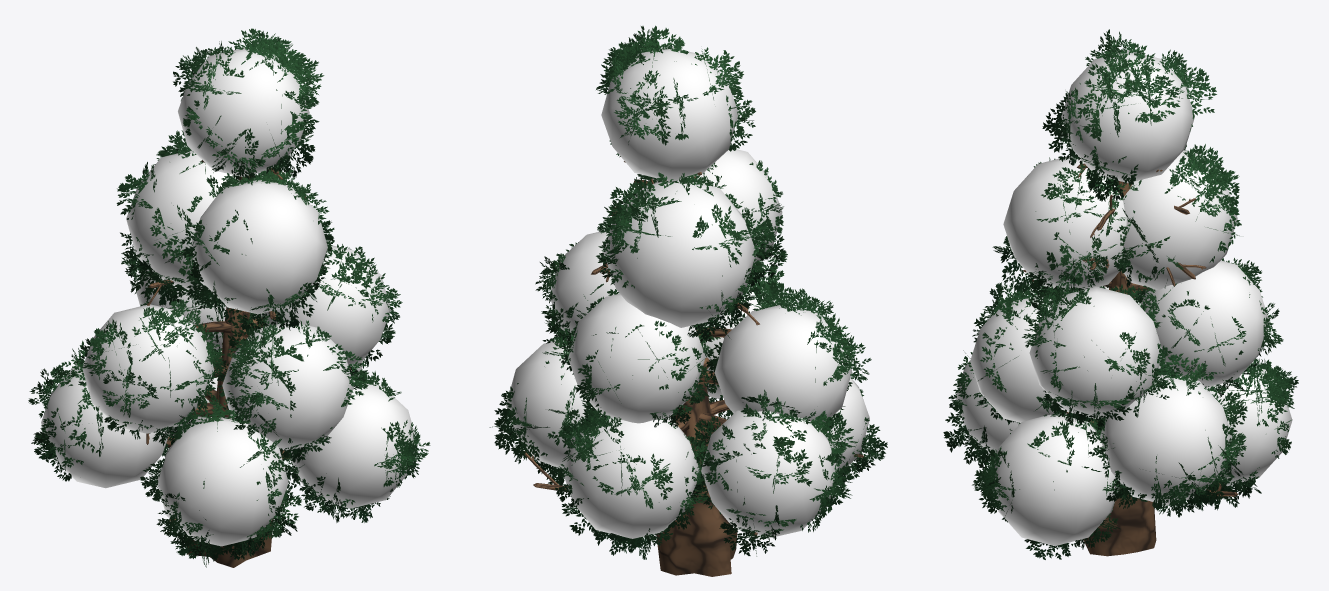
Rendered from spruce.gltf.
3 views of the same model, side by side, from view 1: azimuth 30°, elevation 25°; view 2: azimuth 150°, elevation 25°; view 3: azimuth 270°, elevation 25° (orthographic). The views are drawn at different scales.
Visible parts, largest first — view 1: spruce_shadow_LOD0, spruce_leaves_LOD0, spruce_trunk_LOD0; view 2: spruce_shadow_LOD0, spruce_leaves_LOD0, spruce_trunk_LOD0; view 3: spruce_shadow_LOD0, spruce_leaves_LOD0, spruce_trunk_LOD0.
Part boxes in pixels (x1,y1,x2,y2): spruce_shadow_LOD0: (41,47,417,546); spruce_leaves_LOD0: (28,28,430,567); spruce_trunk_LOD0: (146,160,350,567); spruce_shadow_LOD0: (506,47,869,538); spruce_leaves_LOD0: (489,25,887,559); spruce_trunk_LOD0: (524,156,864,576); spruce_shadow_LOD0: (955,50,1292,545); spruce_leaves_LOD0: (943,29,1298,559); spruce_trunk_LOD0: (1023,163,1237,556).
Size of what is drawn, in the model's own units: 8.62 by 12.05 by 8.11.
3 materials, 2 textured.
